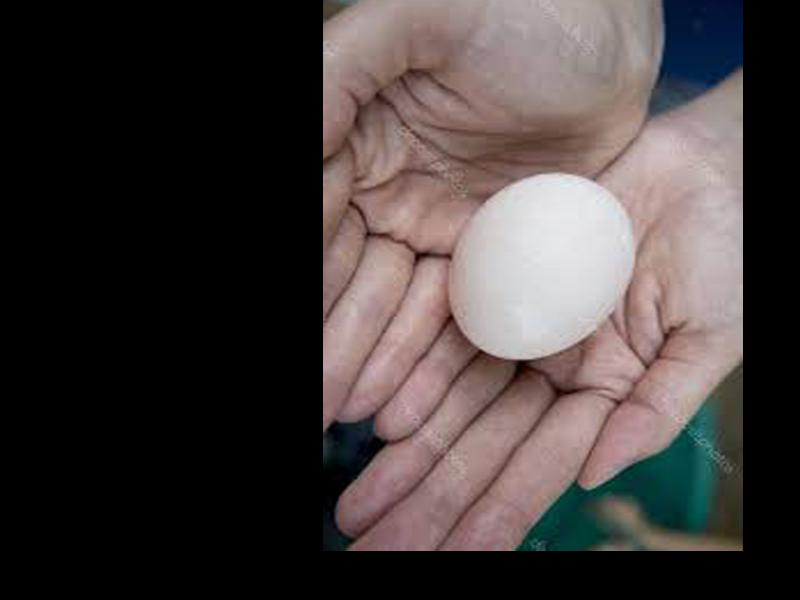Eggs: (453, 174, 630, 360)
